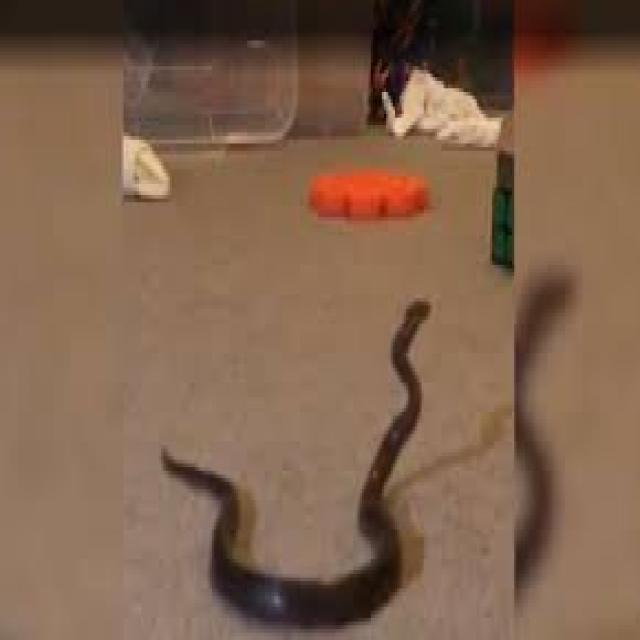Snake: (160, 284, 436, 638)
